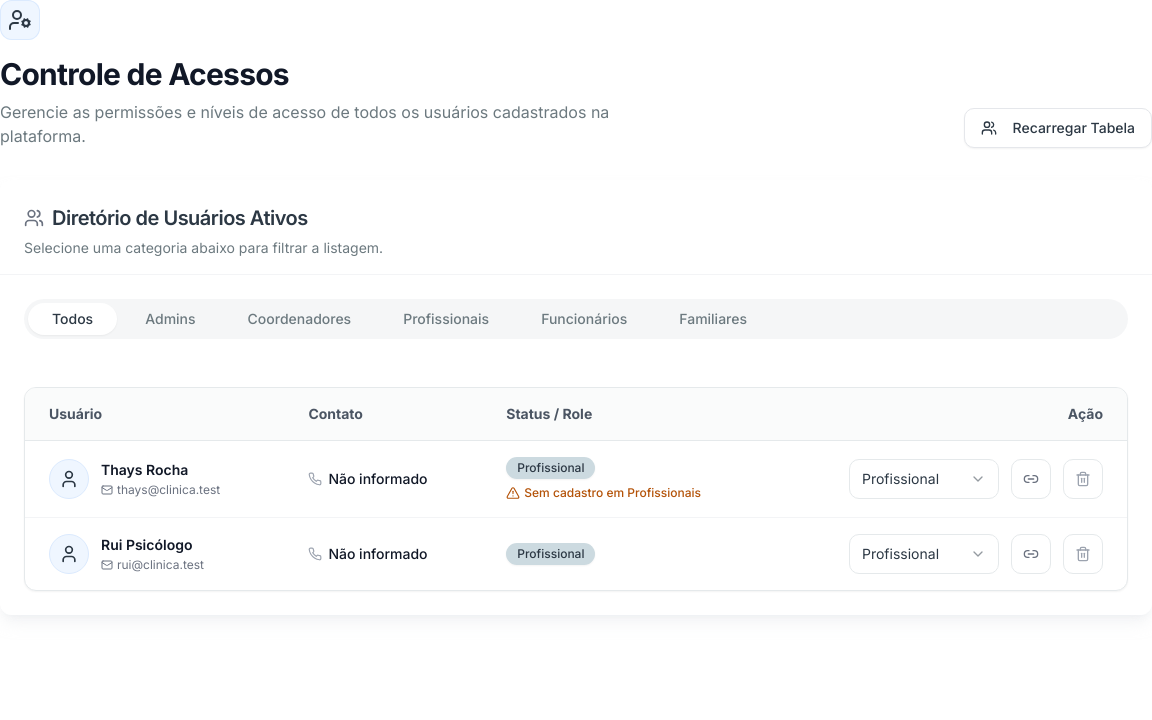
avisa quando o cadastro escolhido já é de outra conta, e só liga com "Ligar mesmo assim"
The width and height of the screenshot is (1152, 720).
Later steps or results of the test are not shown.
Click the button named "Cadastro de profissional de Thays Rocha". click: x=1031, y=479
box: 1011,459 -> 1051,499
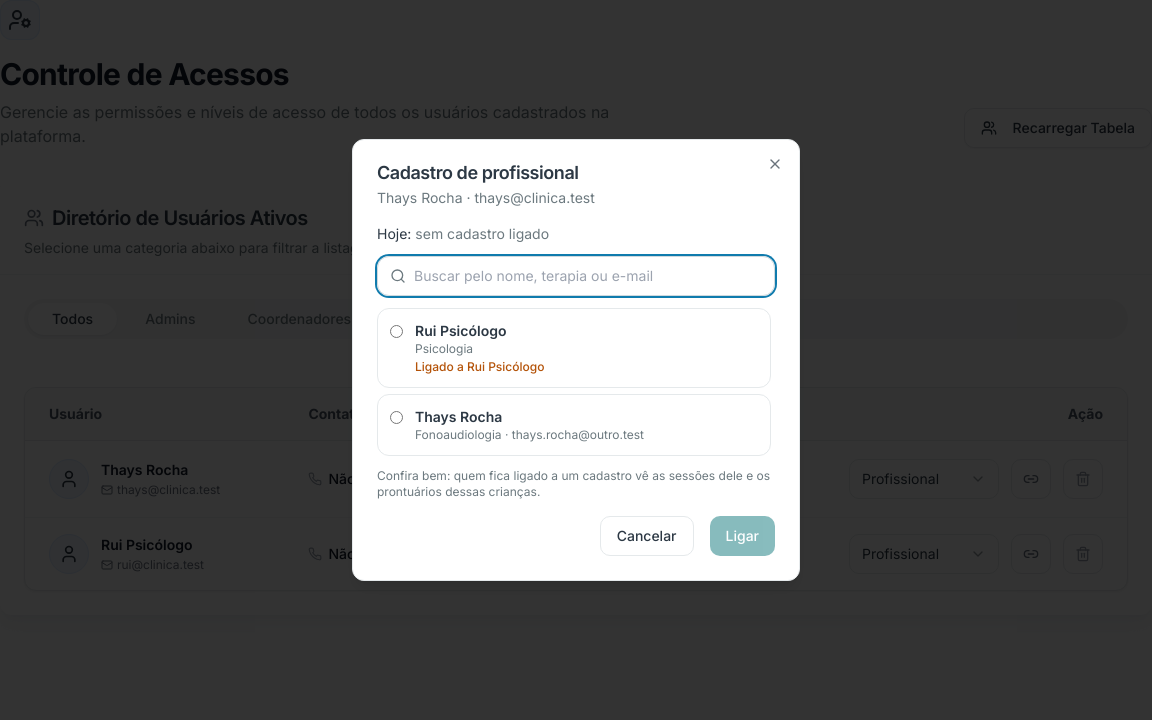
Click the radio button labelled "Rui Psicólogo Psicologia Ligado a Rui Psicólogo". click: x=396, y=332
box: 390,325 -> 403,338
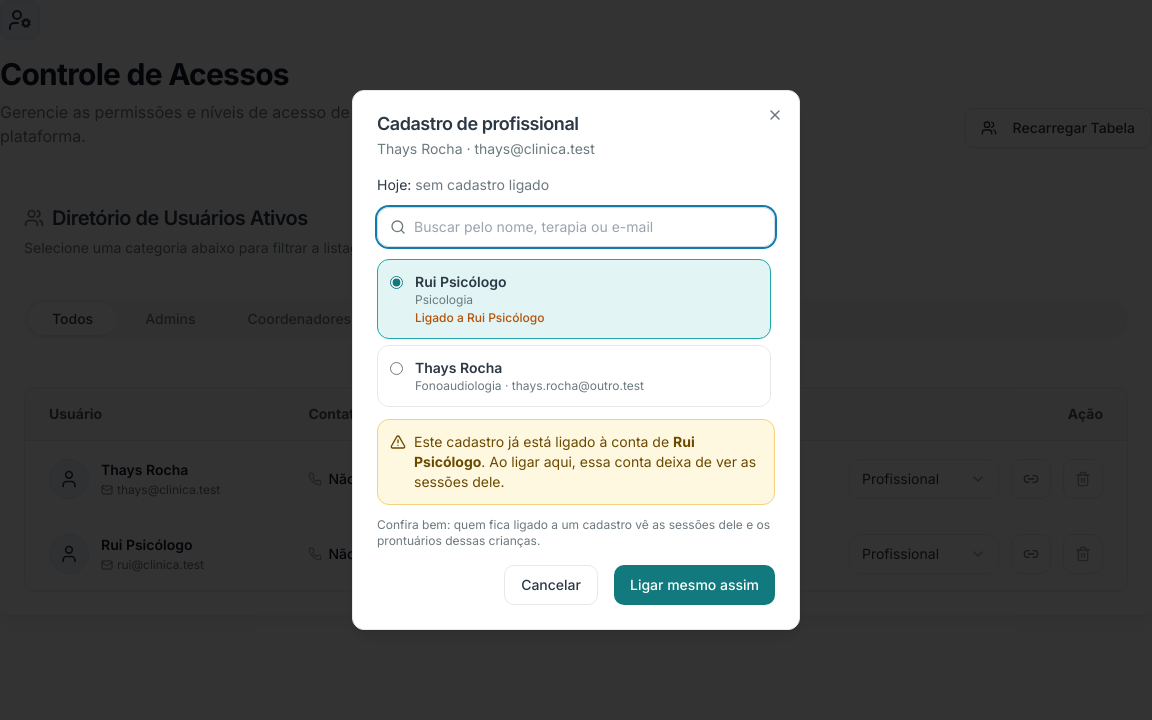
Now the message shows "já está ligado à conta de Rui Psicólogo", box 377,419 -> 775,505
